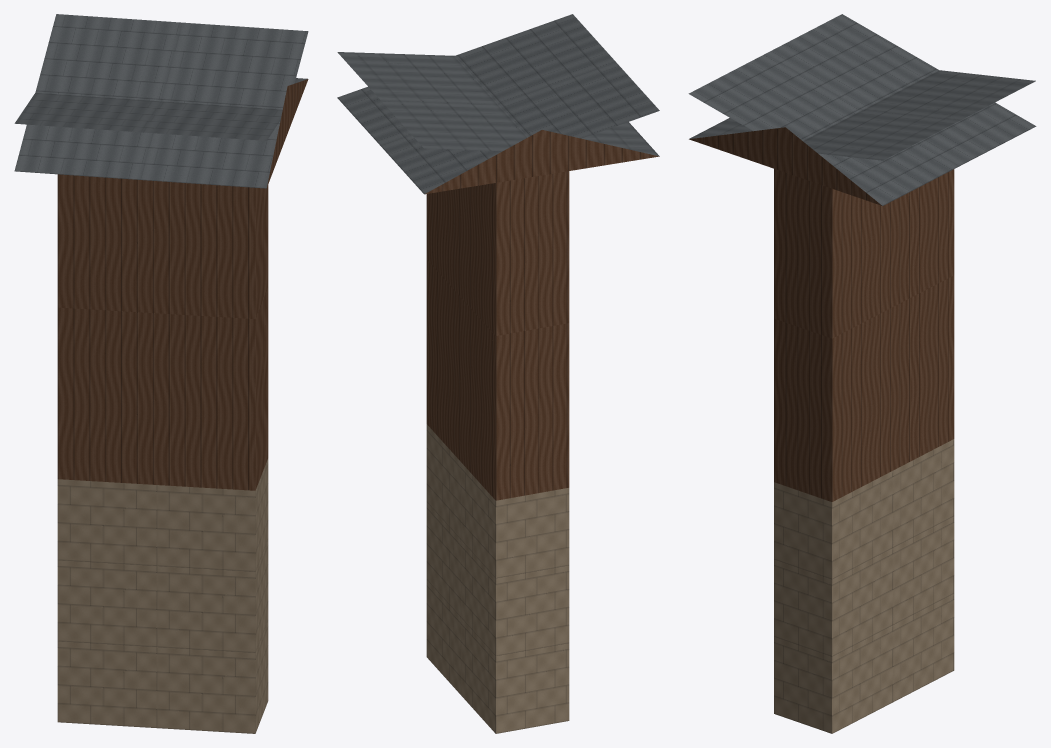
File: bld_c32_-41_450.gltf
3 views of the same model, side by side, from view 1: azimuth 30°, elevation 25°; view 2: azimuth 150°, elevation 25°; view 3: azimuth 270°, elevation 25° (orthographic). The views are drawn at different scales.
Parts seen in each view (by area): view 1: bld_c32_-41_450; view 2: bld_c32_-41_450; view 3: bld_c32_-41_450.
Part boxes in pixels (x1,y1,x2,y2): bld_c32_-41_450: (14, 14, 308, 733); bld_c32_-41_450: (337, 14, 659, 733); bld_c32_-41_450: (688, 14, 1036, 733).
Bounding box in the file's own units: 6.92 × 13.3 × 6.94.
Materials: 4 (4 with a texture image).
